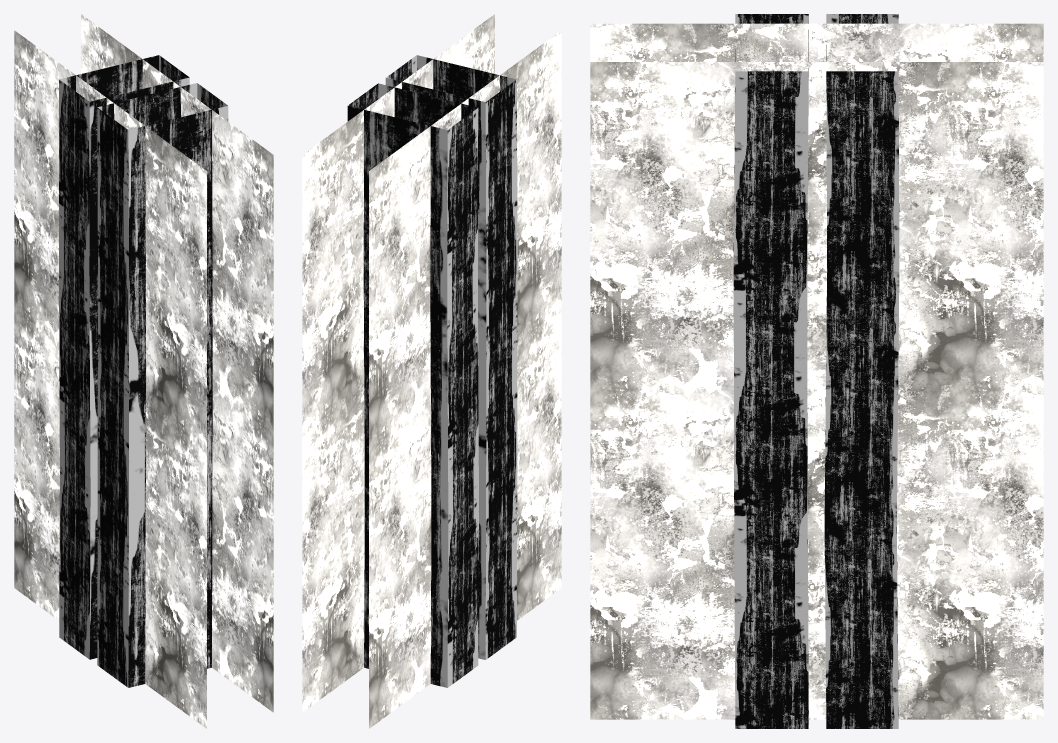
File: SM_wall_A_2-5x4_02_01.fbx
The picture shows the model from 3 angles, left to right: view 1: azimuth 30°, elevation 25°; view 2: azimuth 150°, elevation 25°; view 3: azimuth 270°, elevation 25°; orthographic projection. The views are drawn at different scales.
Parts seen in each view (by area): view 1: SM_wall_A_2-5x4_02_01_LOD0; view 2: SM_wall_A_2-5x4_02_01_LOD0; view 3: SM_wall_A_2-5x4_02_01_LOD0.
Part boxes in pixels (x1,y1,x2,y2): SM_wall_A_2-5x4_02_01_LOD0: [14, 14, 273, 728]; SM_wall_A_2-5x4_02_01_LOD0: [302, 14, 561, 728]; SM_wall_A_2-5x4_02_01_LOD0: [590, 14, 1043, 728].
Bounding box in the file's own units: 75 × 250 × 400.
Materials: 3 (3 with a texture image).
